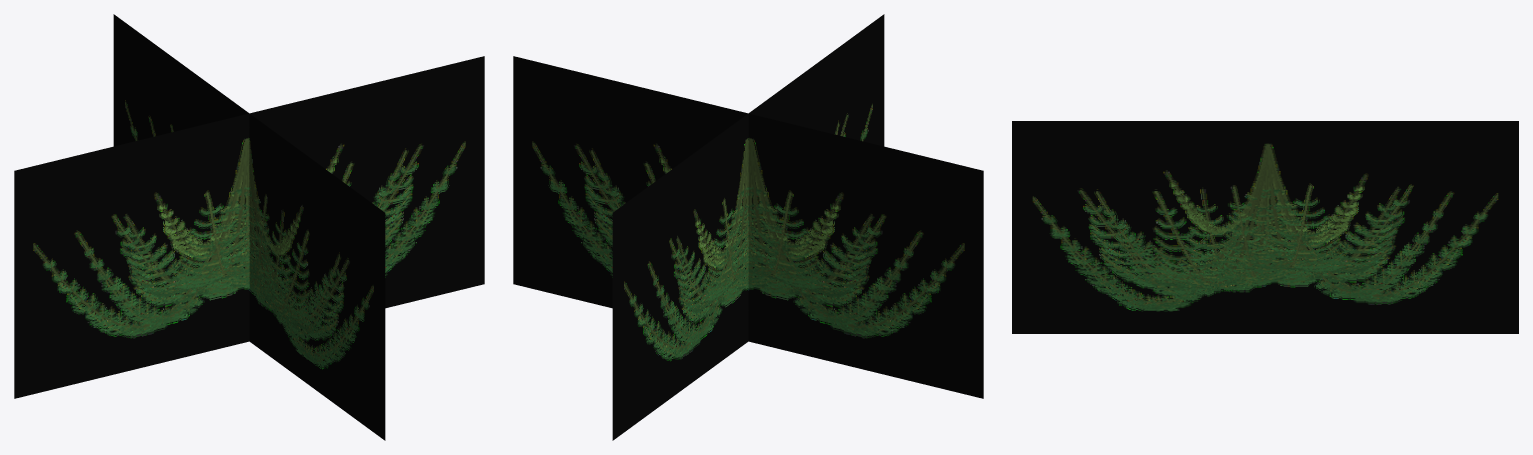
File: woodland_fern_lod3.glb
3 renders of one model, left to right at view 1: azimuth 30°, elevation 25°; view 2: azimuth 150°, elevation 25°; view 3: azimuth 270°, elevation 25°, orthographic. The views are drawn at different scales.
Parts seen in each view (by area): view 1: fern_billboard_0, fern_billboard_1; view 2: fern_billboard_0, fern_billboard_1; view 3: fern_billboard_1.
Part boxes in pixels (<box>): fern_billboard_0: <box>14,56,484,398</box>; fern_billboard_1: <box>113,14,385,440</box>; fern_billboard_0: <box>513,56,983,398</box>; fern_billboard_1: <box>612,14,884,440</box>; fern_billboard_1: <box>1012,121,1518,333</box>.
Bounding box in the file's own units: 1.9 × 0.88 × 1.9.
1 material, 1 textured.
